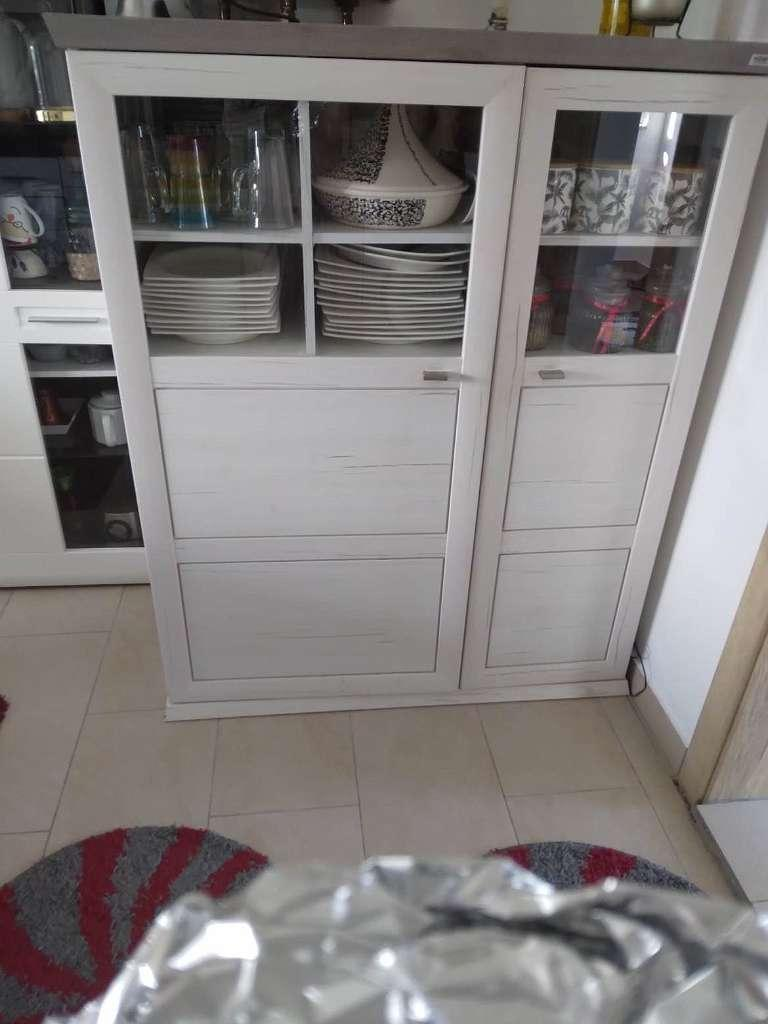cabinet_door: (118, 50, 480, 708), (497, 60, 687, 702)
handle: (532, 367, 568, 393), (415, 365, 453, 385)
